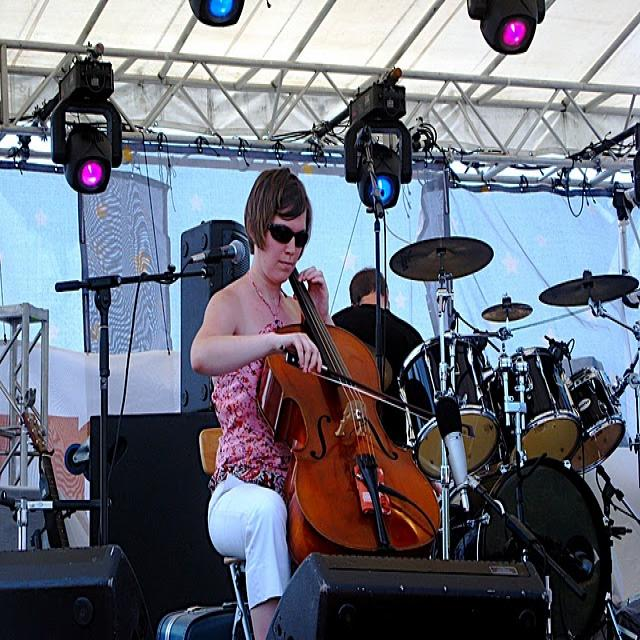cello: (255, 238, 444, 565)
guitar: (15, 412, 80, 548)
